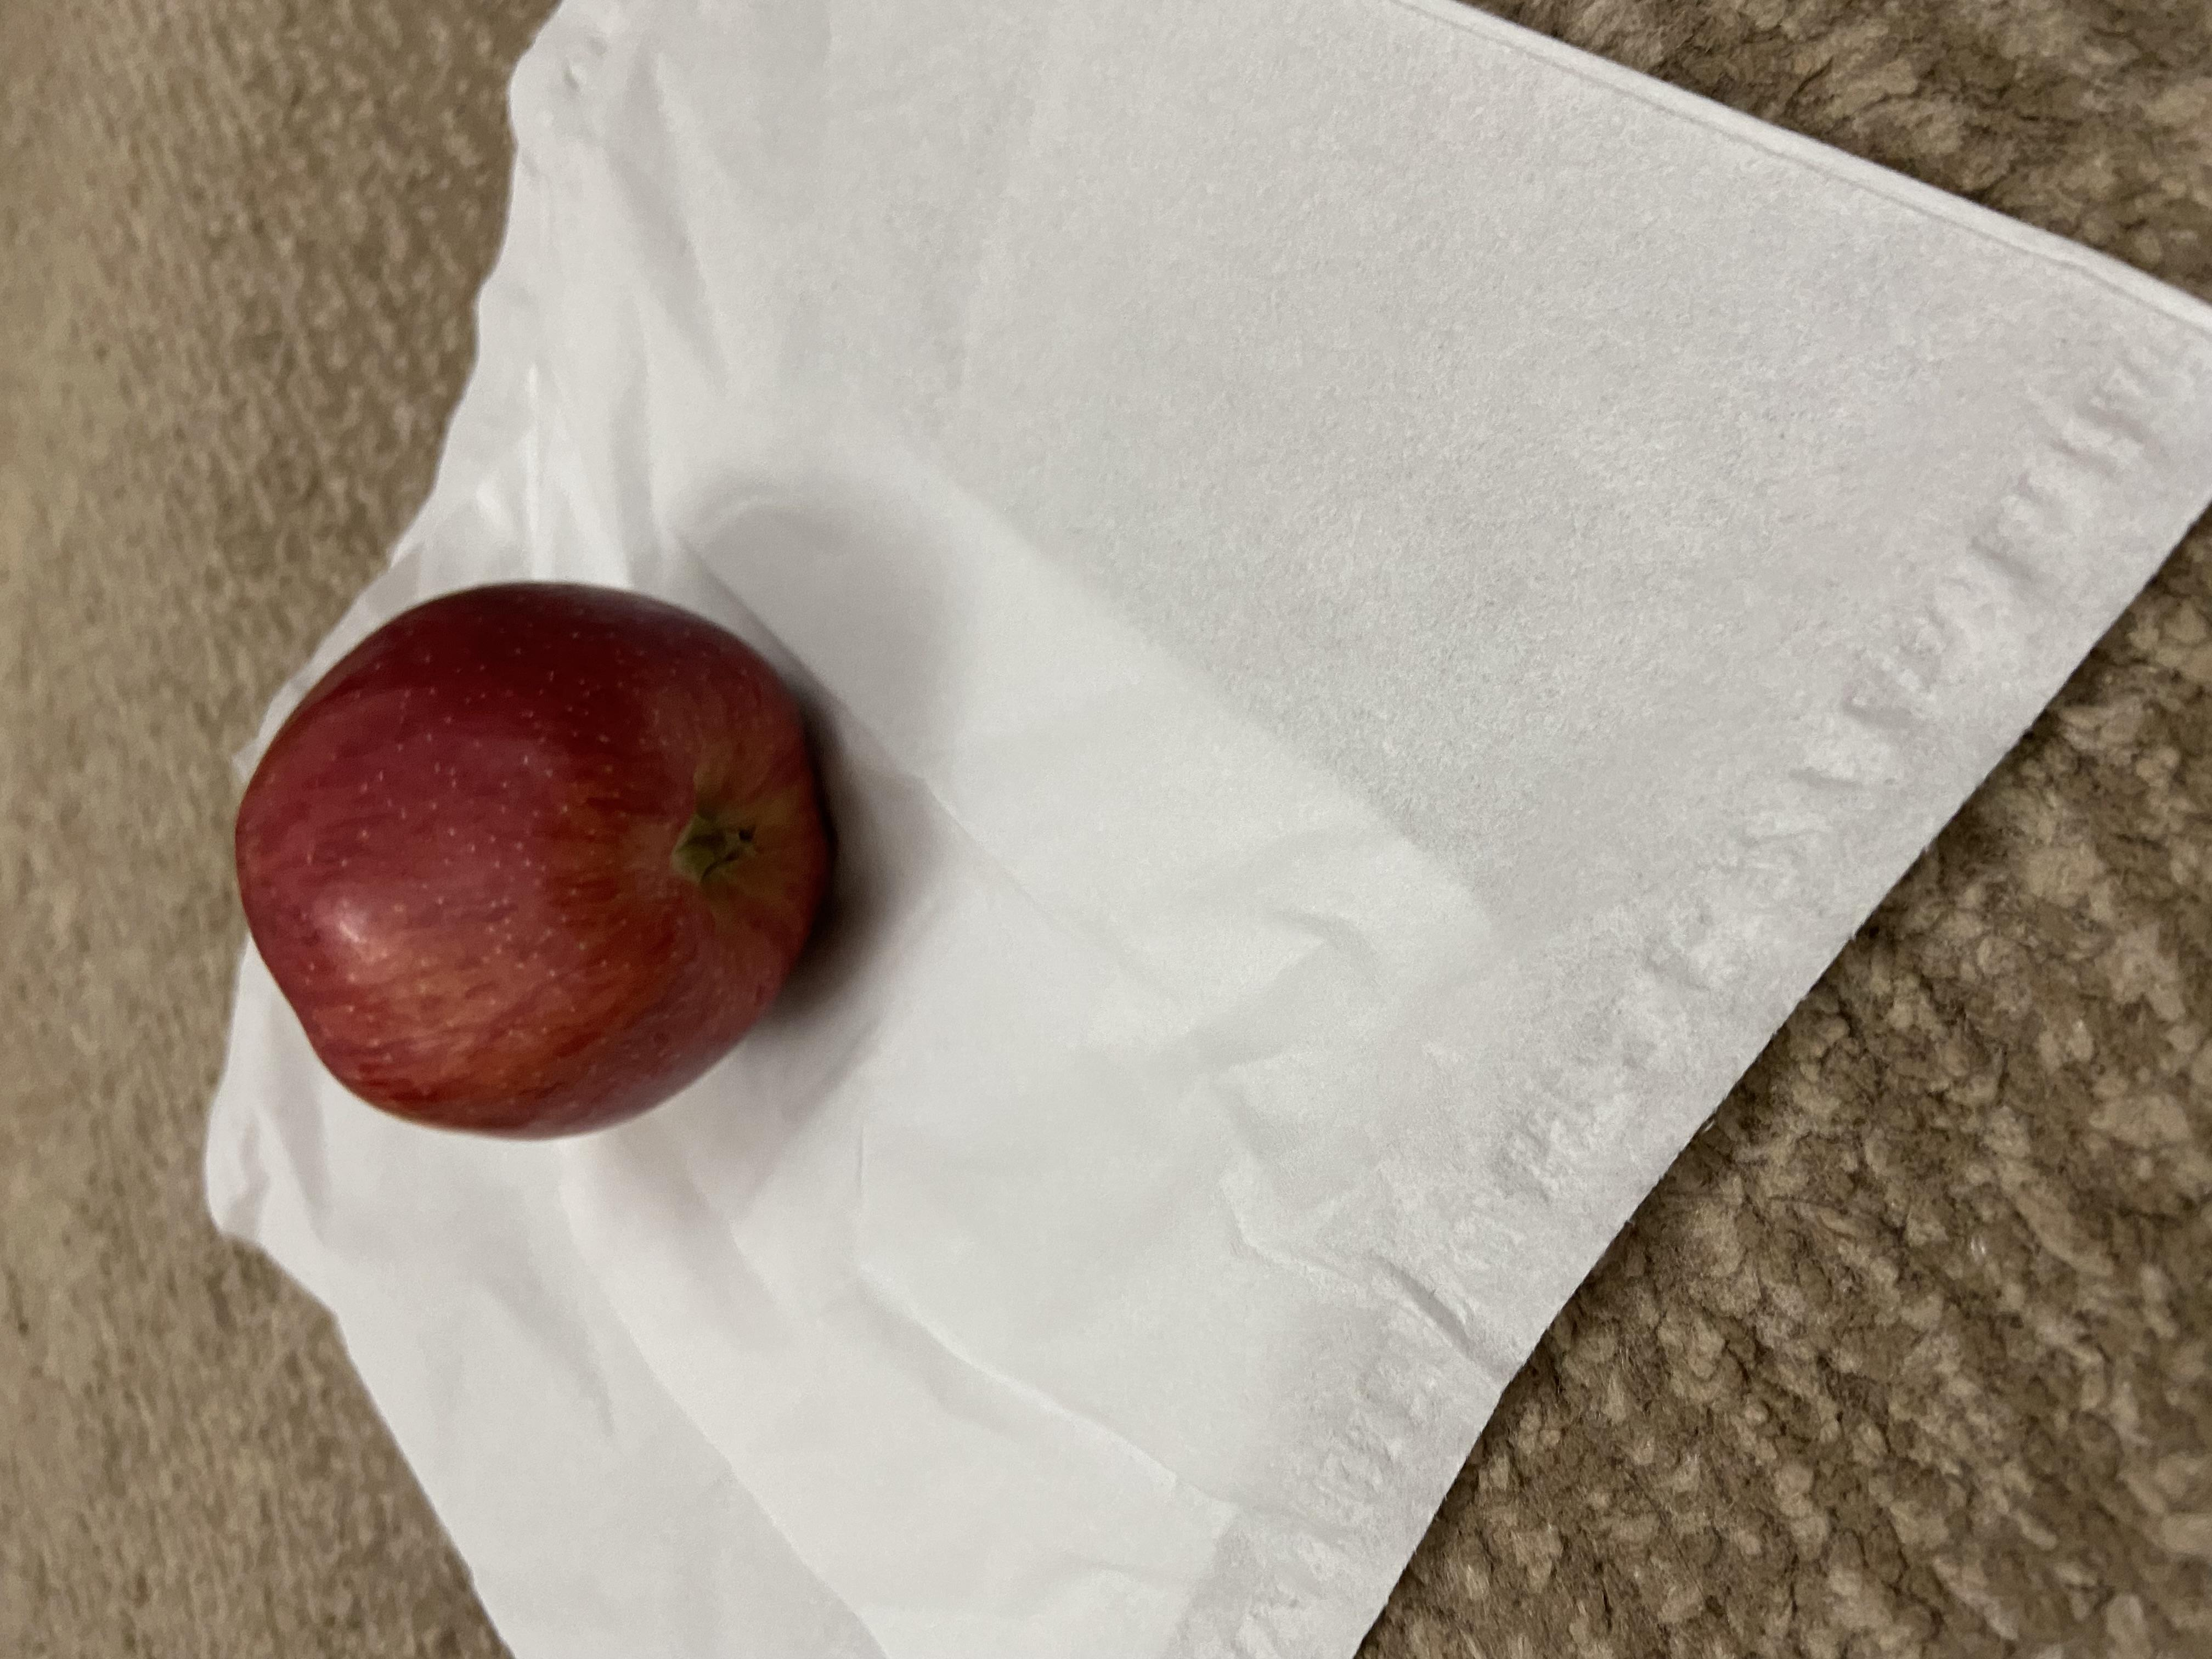Apple: (690, 169, 1449, 638)
